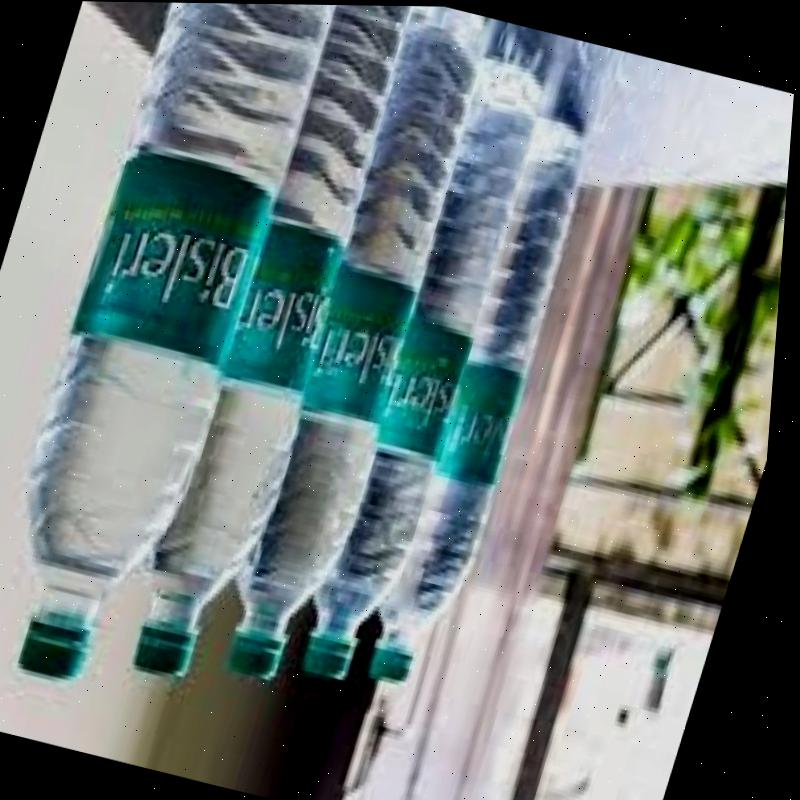botella: (0, 0, 344, 700), (113, 2, 429, 692), (213, 3, 510, 689), (296, 45, 559, 685), (364, 102, 609, 694)
